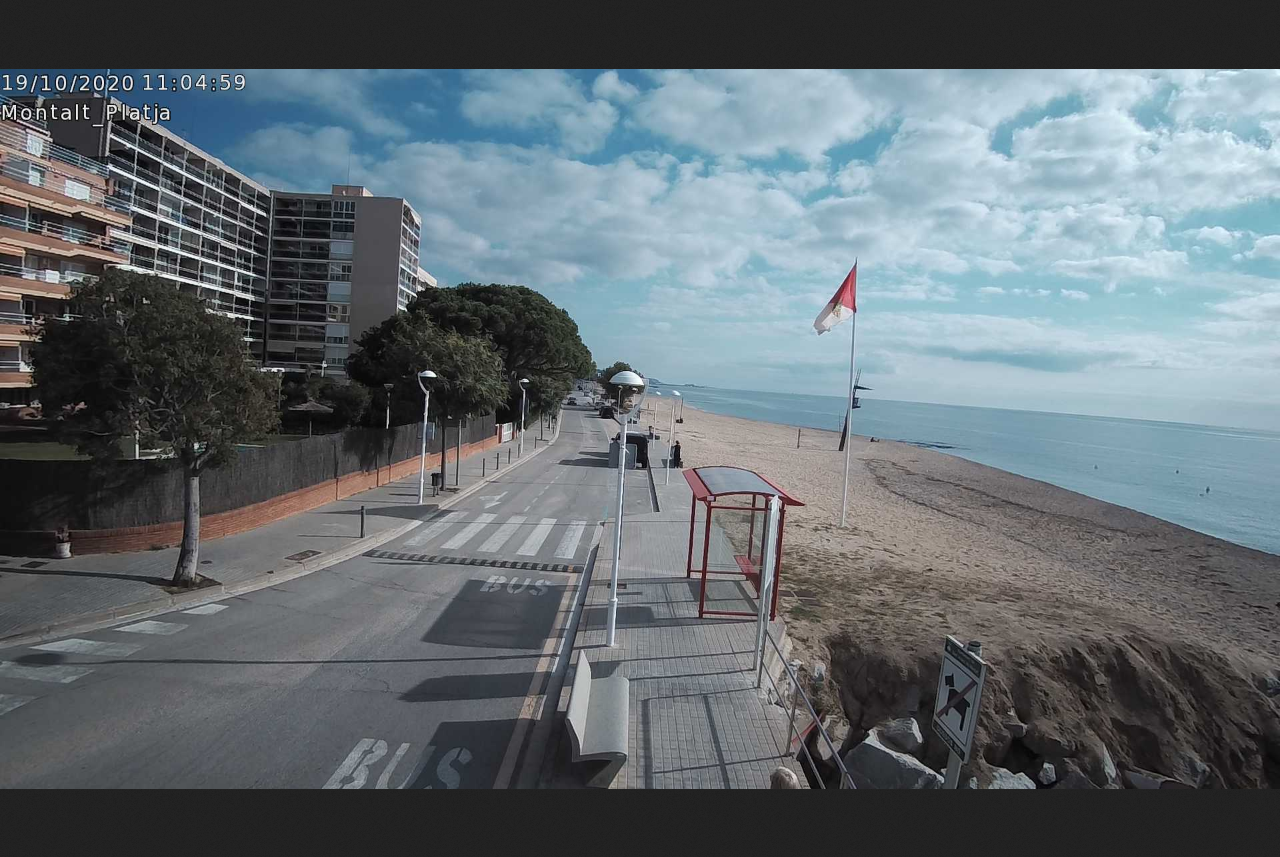maybe: (815, 265, 857, 337)
